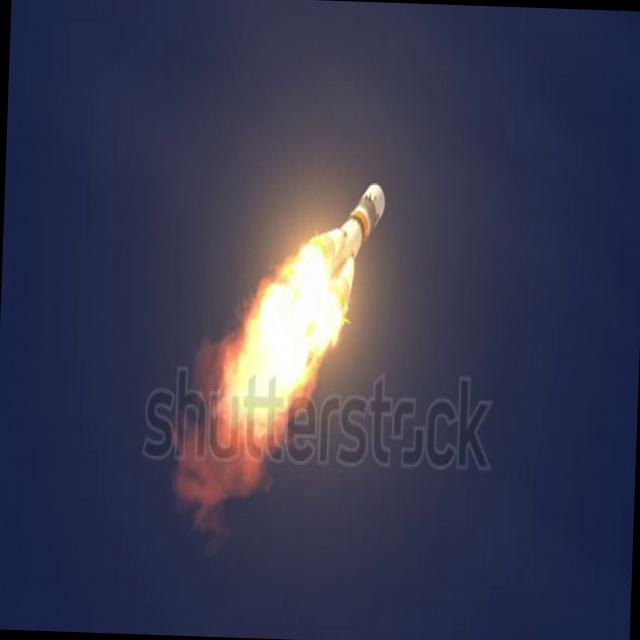rocket: (243, 183, 383, 405)
